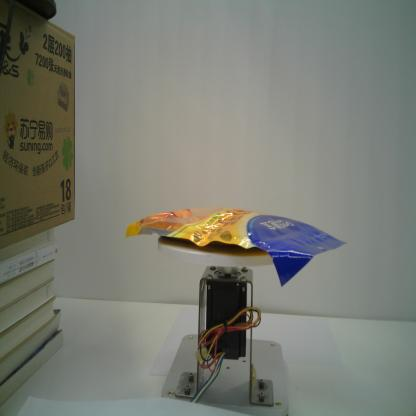Dried Fruit: (126, 204, 348, 288)
